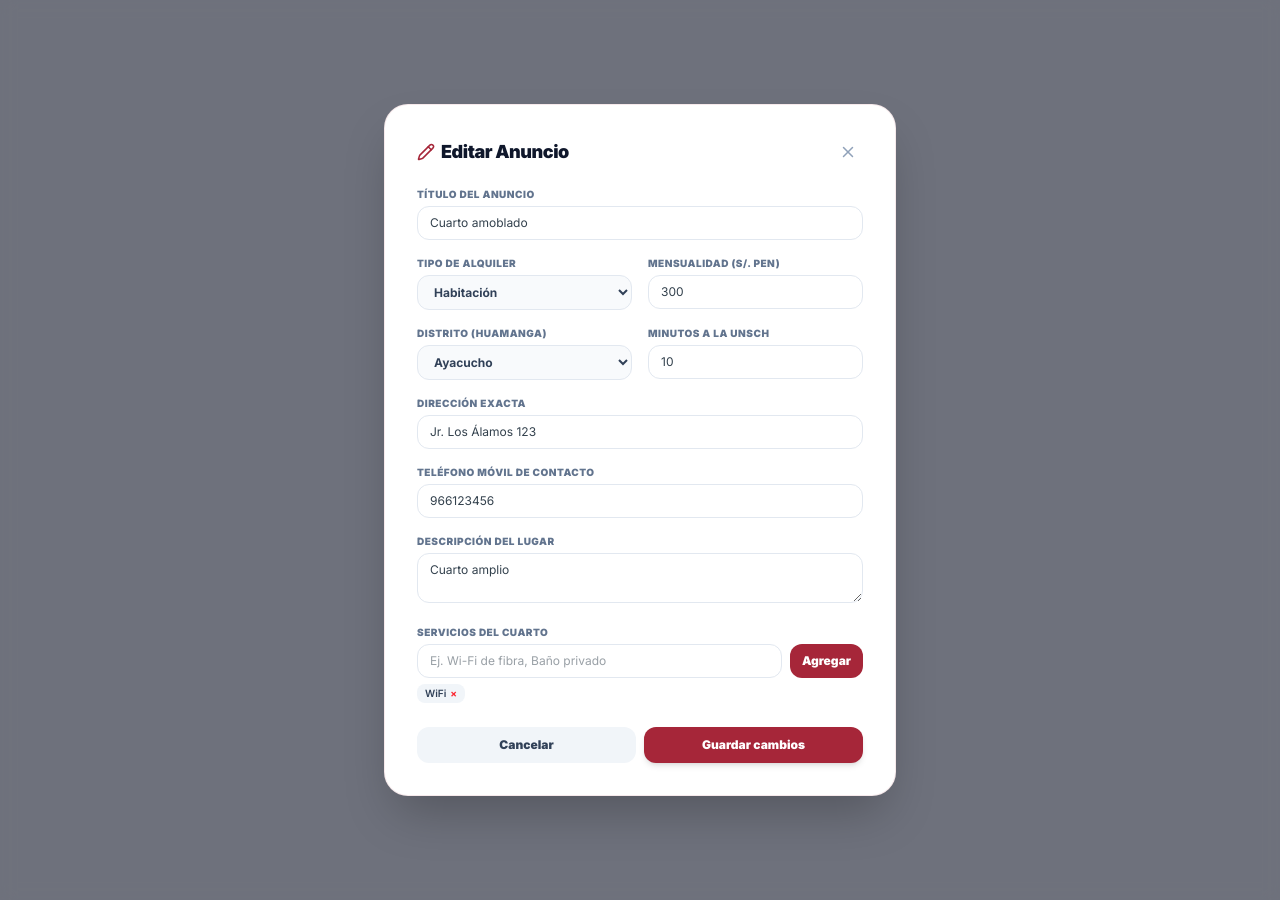
Test: EditListingModal › muestra un error si falla el guardado y no cierra el modal
Click the button "Guardar cambios": (754, 745) [644,727,863,763]
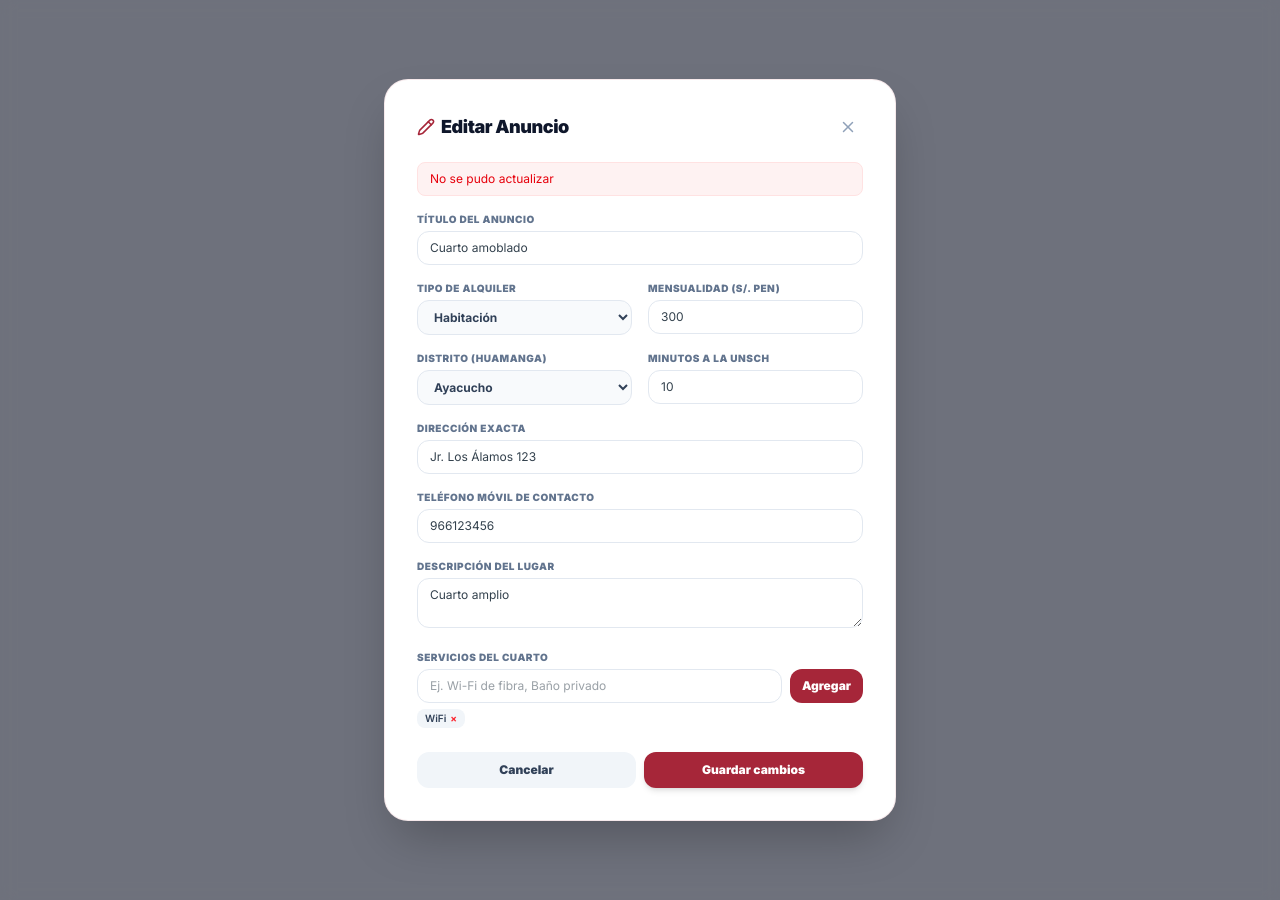
expect the text "No se pudo actualizar" is shown: met, box [417,162,863,196]
